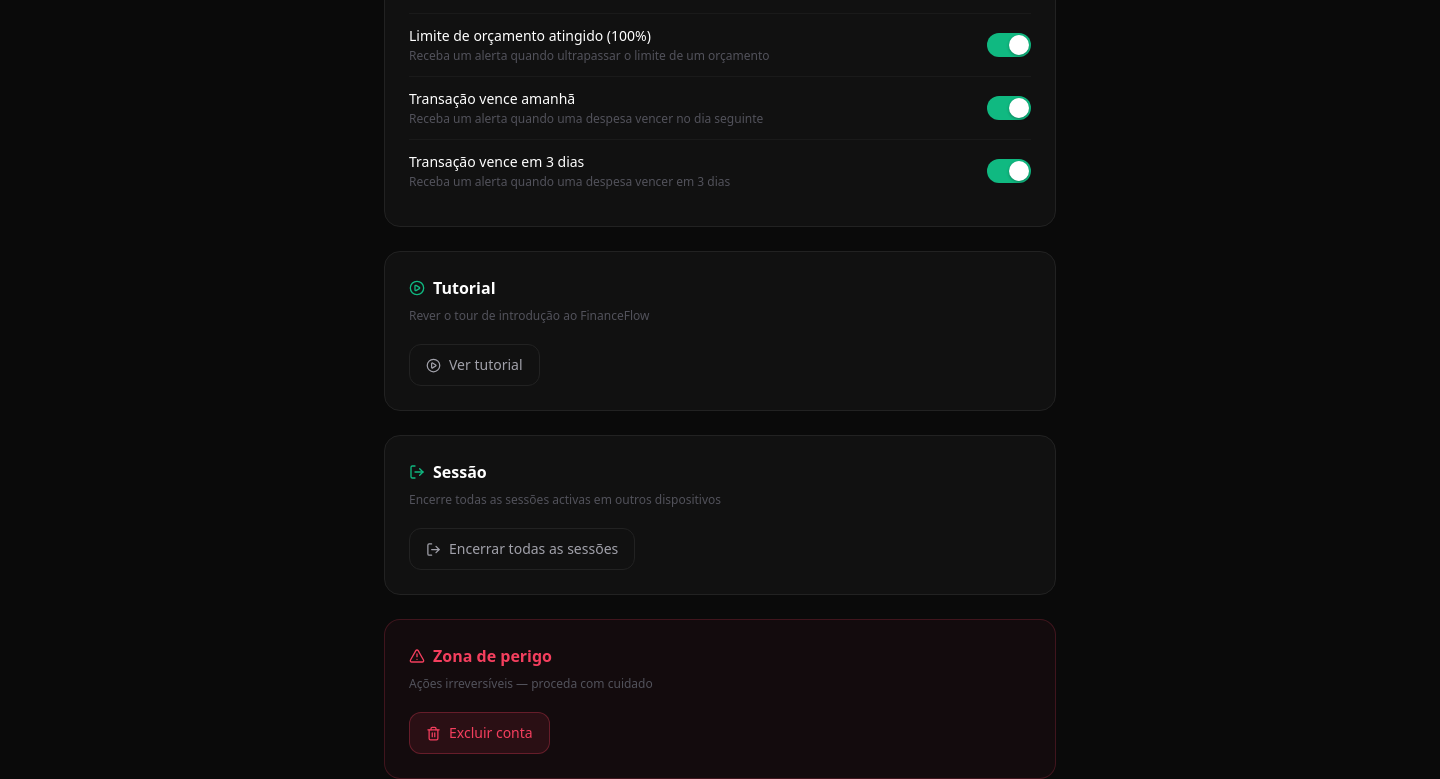
Scenario: SettingsPage › deve abrir o modal de exclusão ao clicar em excluir conta
The width and height of the screenshot is (1440, 779).
(page scrolled)
Click the button "Excluir conta" at (479, 733), box top-left (409, 712), bottom-right (550, 754)
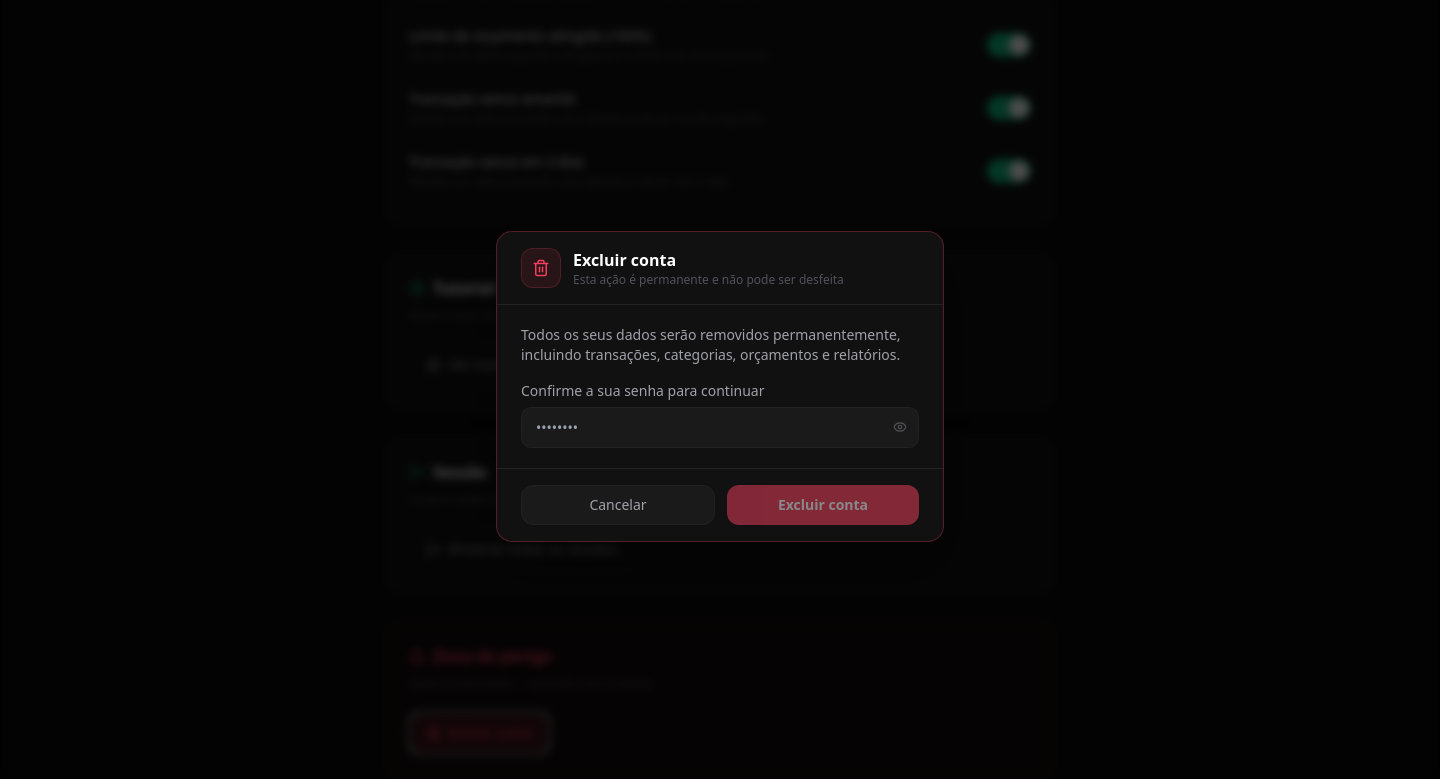
Now the text "Esta ação é permanente e não pode ser desfeita" is shown, box top-left (573, 272), bottom-right (844, 288)
